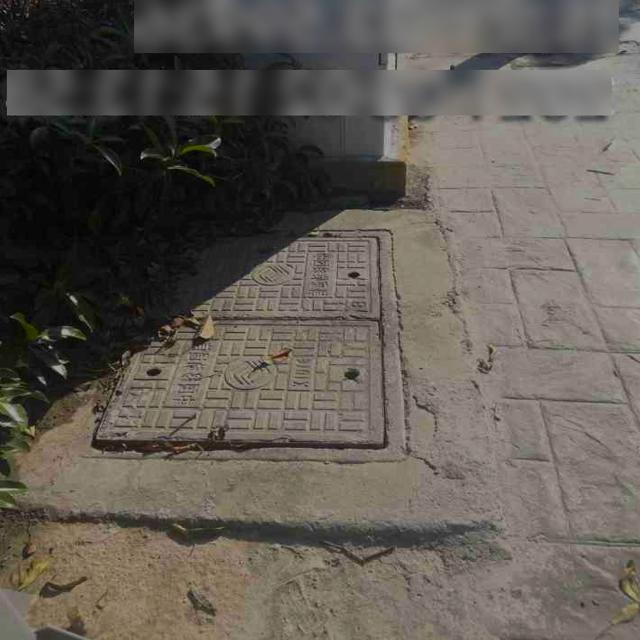good: (77, 229, 410, 457)
